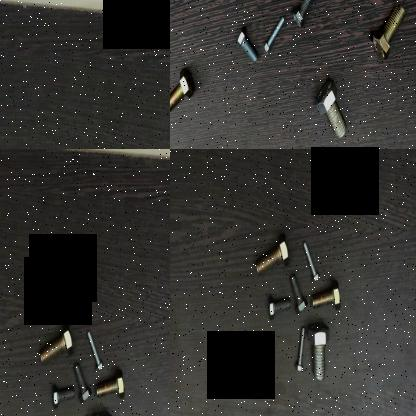Bolts: (312, 72, 352, 142), (370, 0, 404, 66), (37, 318, 73, 367), (252, 230, 290, 274), (170, 60, 196, 122), (306, 321, 332, 382), (233, 18, 260, 70), (94, 366, 126, 404), (262, 11, 286, 57), (310, 284, 346, 314), (84, 329, 106, 369), (300, 241, 322, 281), (264, 290, 290, 322), (74, 358, 92, 404), (47, 382, 76, 408), (289, 0, 313, 30), (292, 324, 305, 374)
